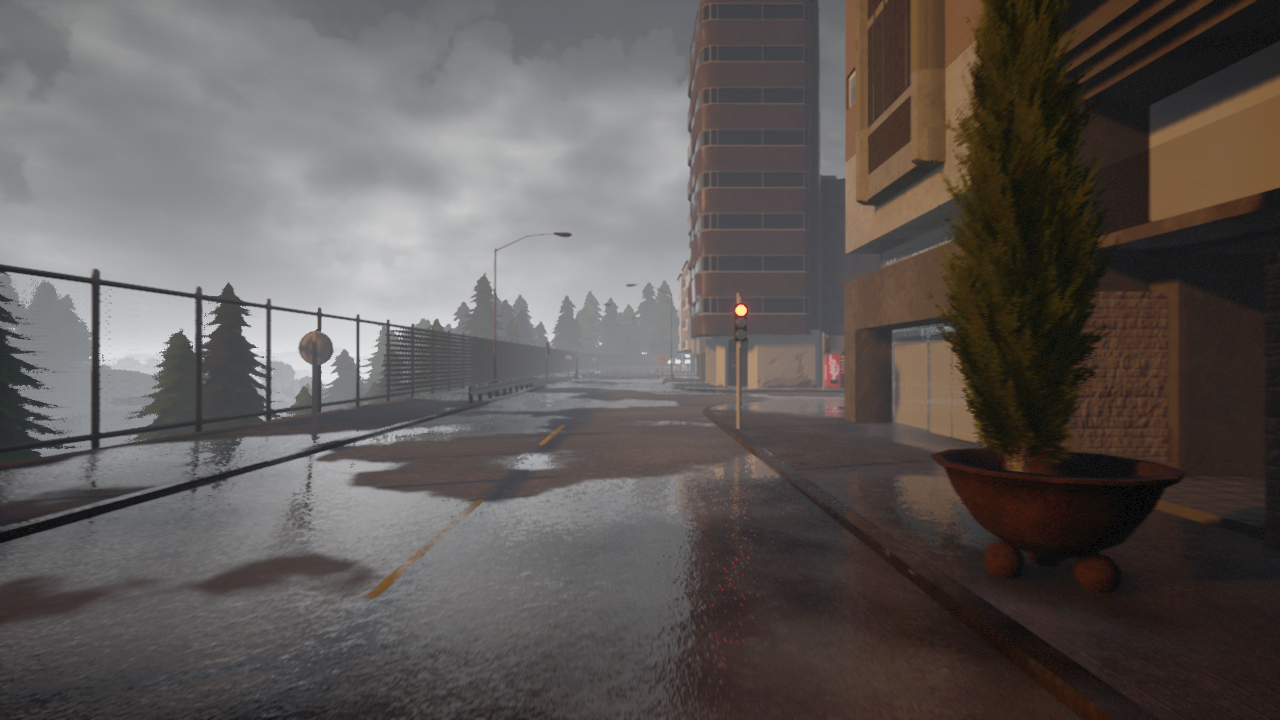red: (733, 304, 747, 341)
